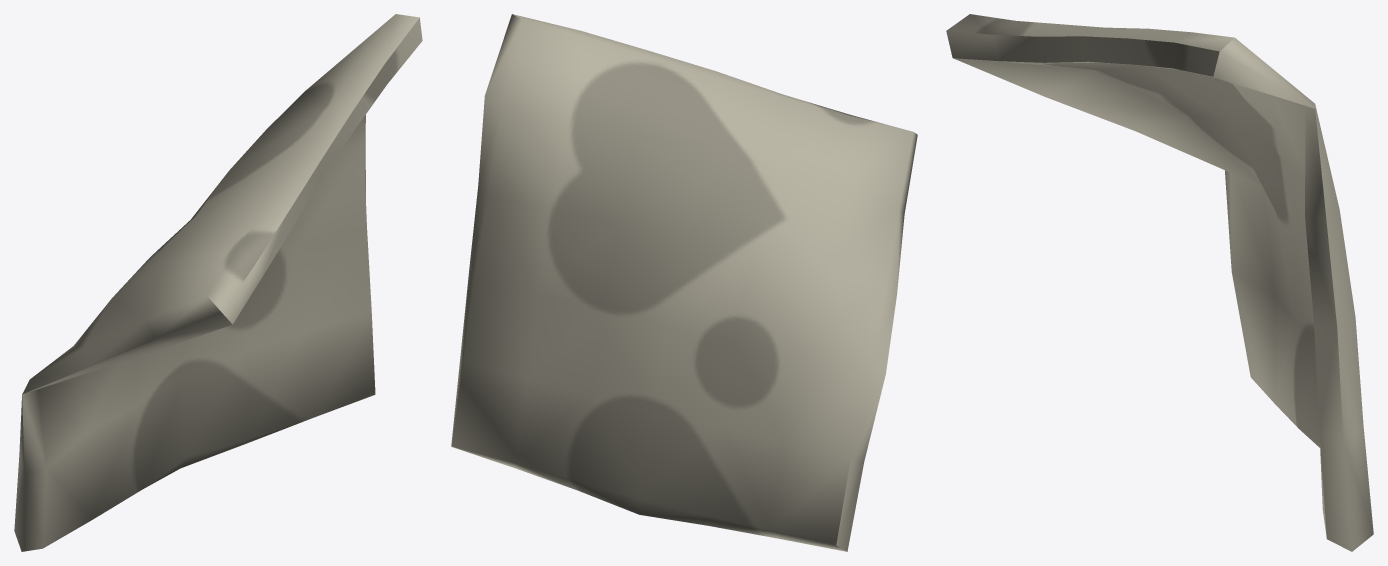
Rendered from p_mesh_destruct_toiletpaper_pose1.fbx.
3 views of the same model, side by side, from view 1: azimuth 30°, elevation 25°; view 2: azimuth 150°, elevation 25°; view 3: azimuth 270°, elevation 25° (orthographic). The views are drawn at different scales.
Visible parts, largest first — view 1: hammer_bubblewrap_blendshape_pose1; view 2: hammer_bubblewrap_blendshape_pose1; view 3: hammer_bubblewrap_blendshape_pose1.
Boxes of the visible parts, x1,y1,x2,y2 form: hammer_bubblewrap_blendshape_pose1: (14, 14, 422, 551); hammer_bubblewrap_blendshape_pose1: (451, 14, 917, 551); hammer_bubblewrap_blendshape_pose1: (946, 14, 1373, 551).
Size of the model in its own units: 1.67 by 1.83 by 1.29.
